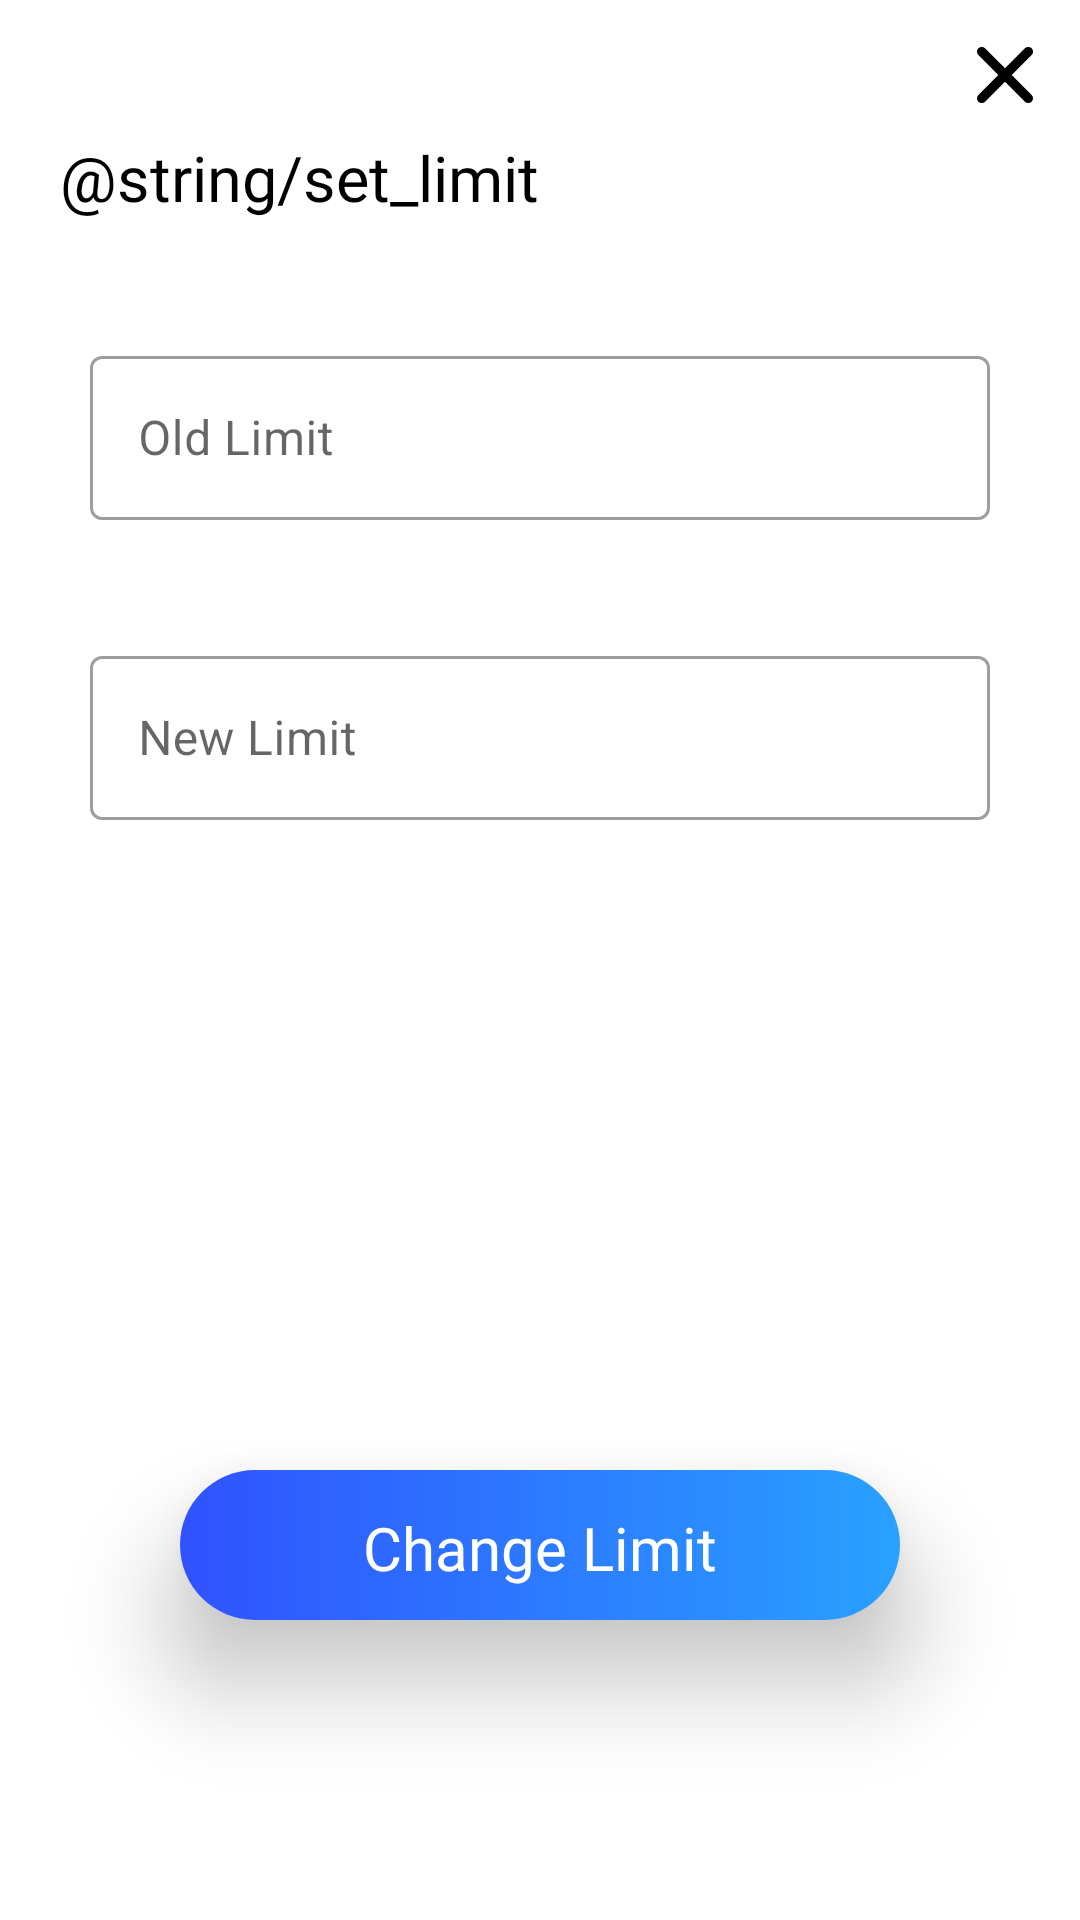

Point at icon controls on the screen. Image size 1080 × 1920, points as point (x, y).
close: point (1005, 75)
